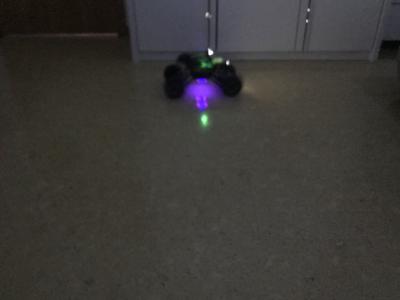remote control car: (160, 47, 244, 100)
